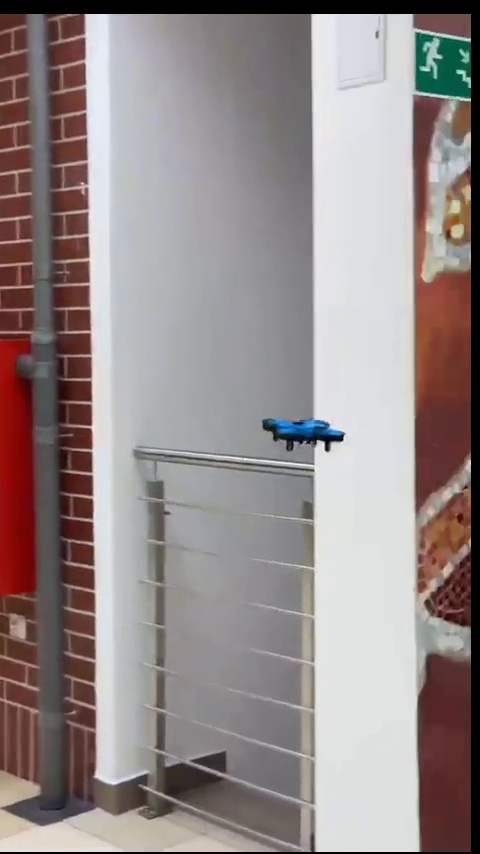drone: (265, 414, 343, 452)
